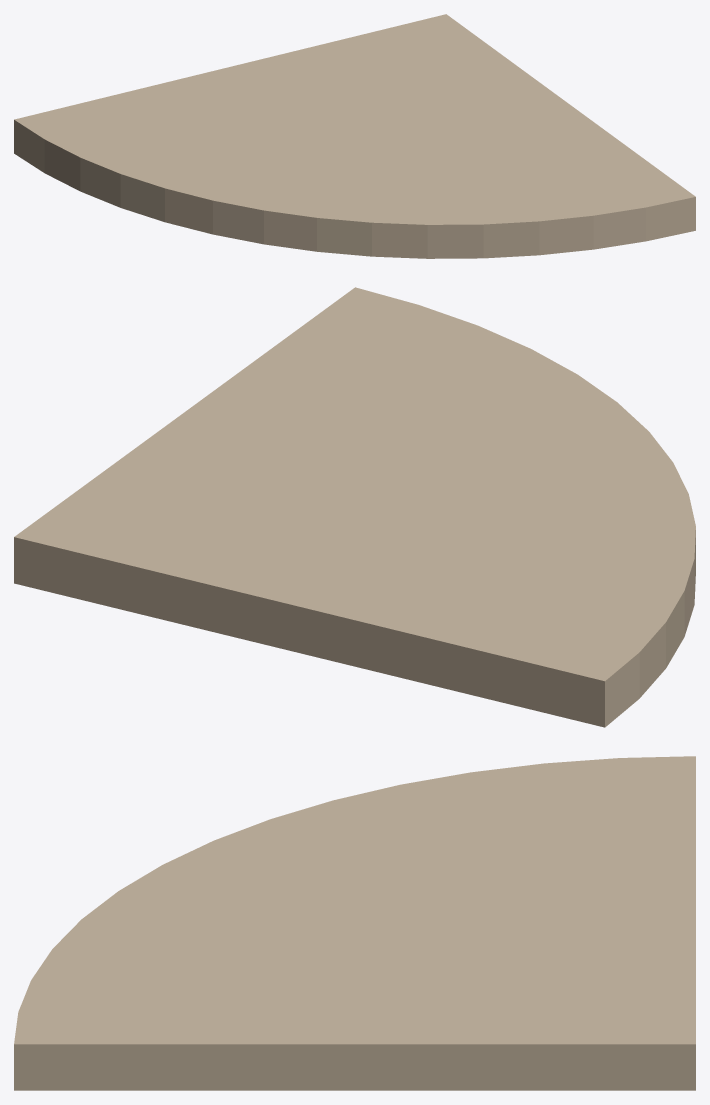
The model's file is city_slab_round.glb.
3 renders of one model, top to bottom at view 1: azimuth 30°, elevation 25°; view 2: azimuth 150°, elevation 25°; view 3: azimuth 270°, elevation 25°, orthographic. The views are drawn at different scales.
Parts seen in each view (by area): view 1: CitySlabRound_Slab; view 2: CitySlabRound_Slab; view 3: CitySlabRound_Slab.
Part boxes in pixels (box(x1,y1,x2,y2)): CitySlabRound_Slab: box(14, 14, 695, 258); CitySlabRound_Slab: box(14, 287, 695, 727); CitySlabRound_Slab: box(14, 756, 695, 1090).
Size of the model in its own units: 4 by 0.3 by 4.
